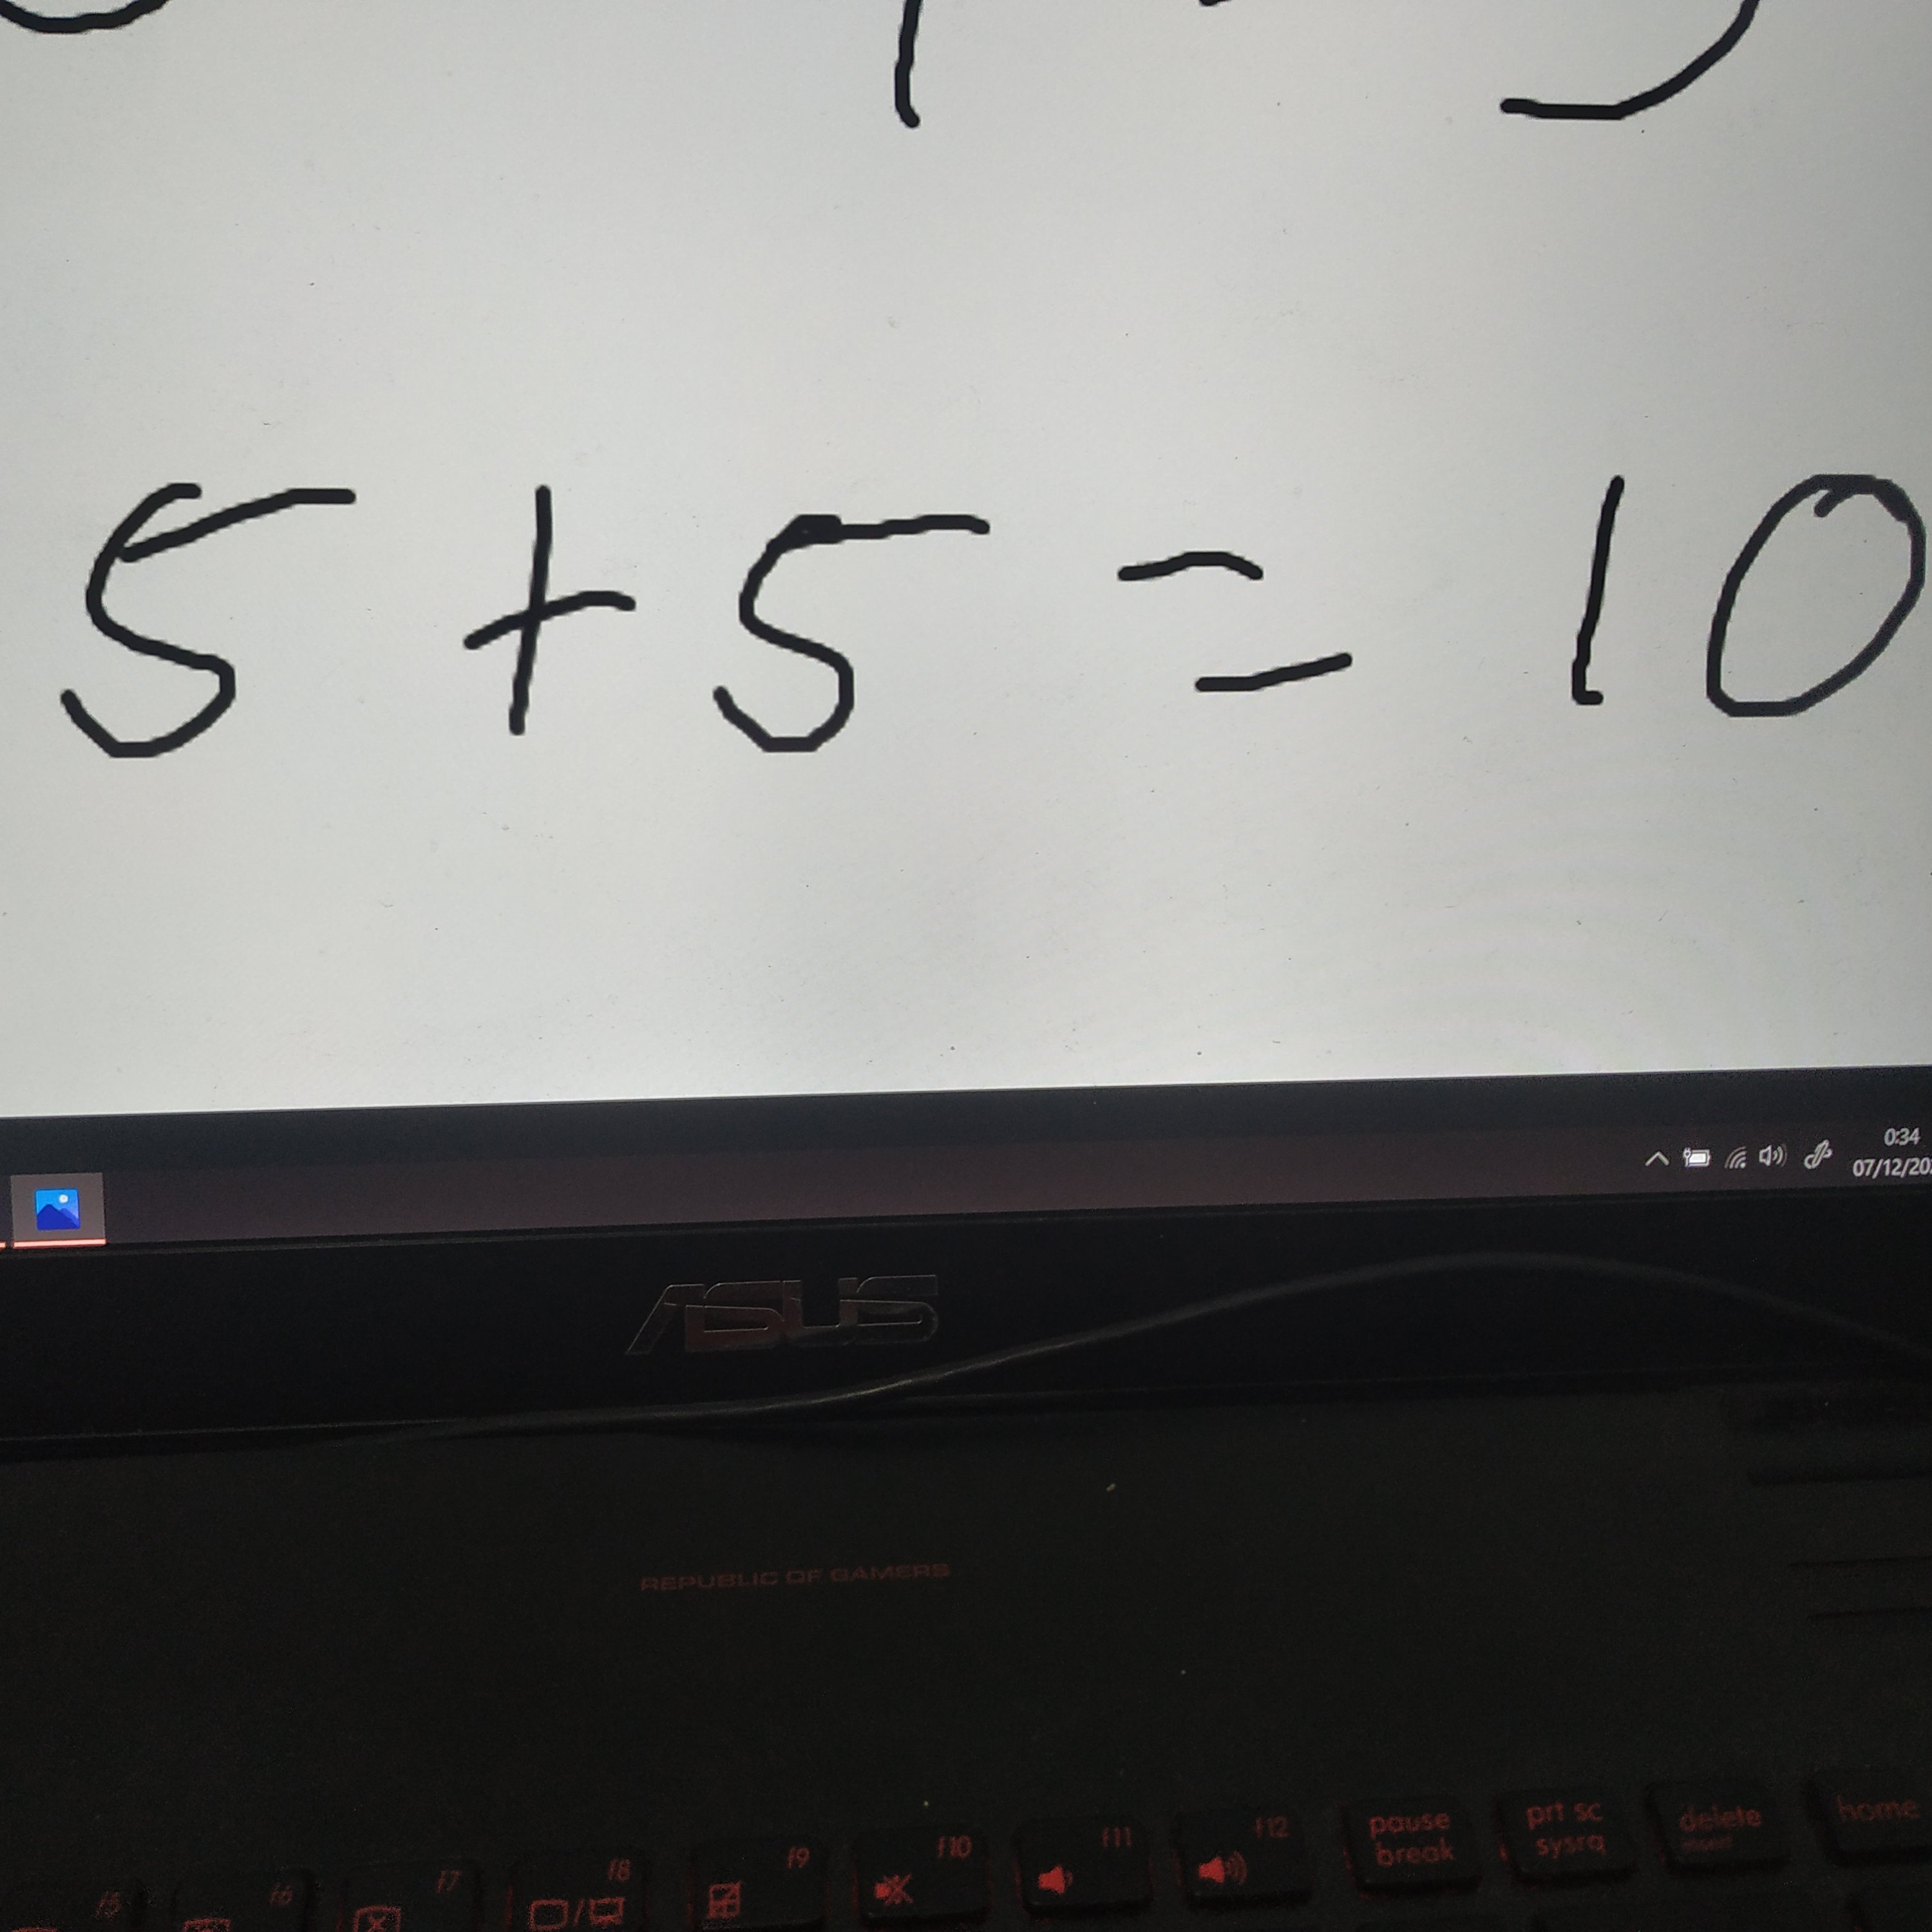equal: (23, 457, 364, 797), (1083, 526, 1405, 729)
num0: (1672, 457, 1932, 752)
num1: (1533, 459, 1629, 735)
num5: (690, 486, 1025, 793)
sum: (447, 469, 659, 750)
